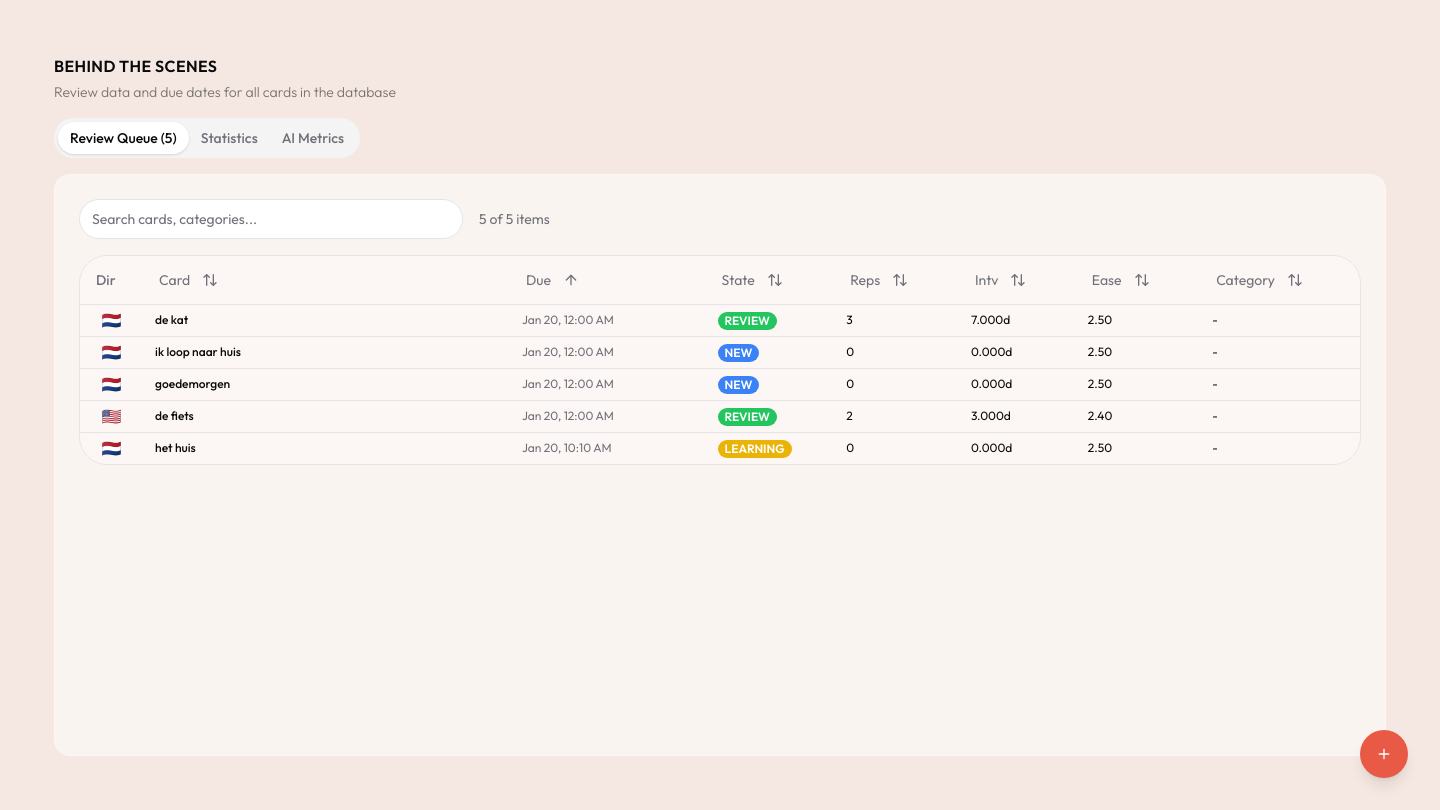
Test: Debug Page › shows search functionality in queue tab
This screenshot has width=1440, height=810.
Check: the text "5 of 5 items" is shown, box [479,209,550,229]
Type in search box
In the field with placeholder "Search cards, categories...": [271, 219] box [79,199,463,239], type "kat"
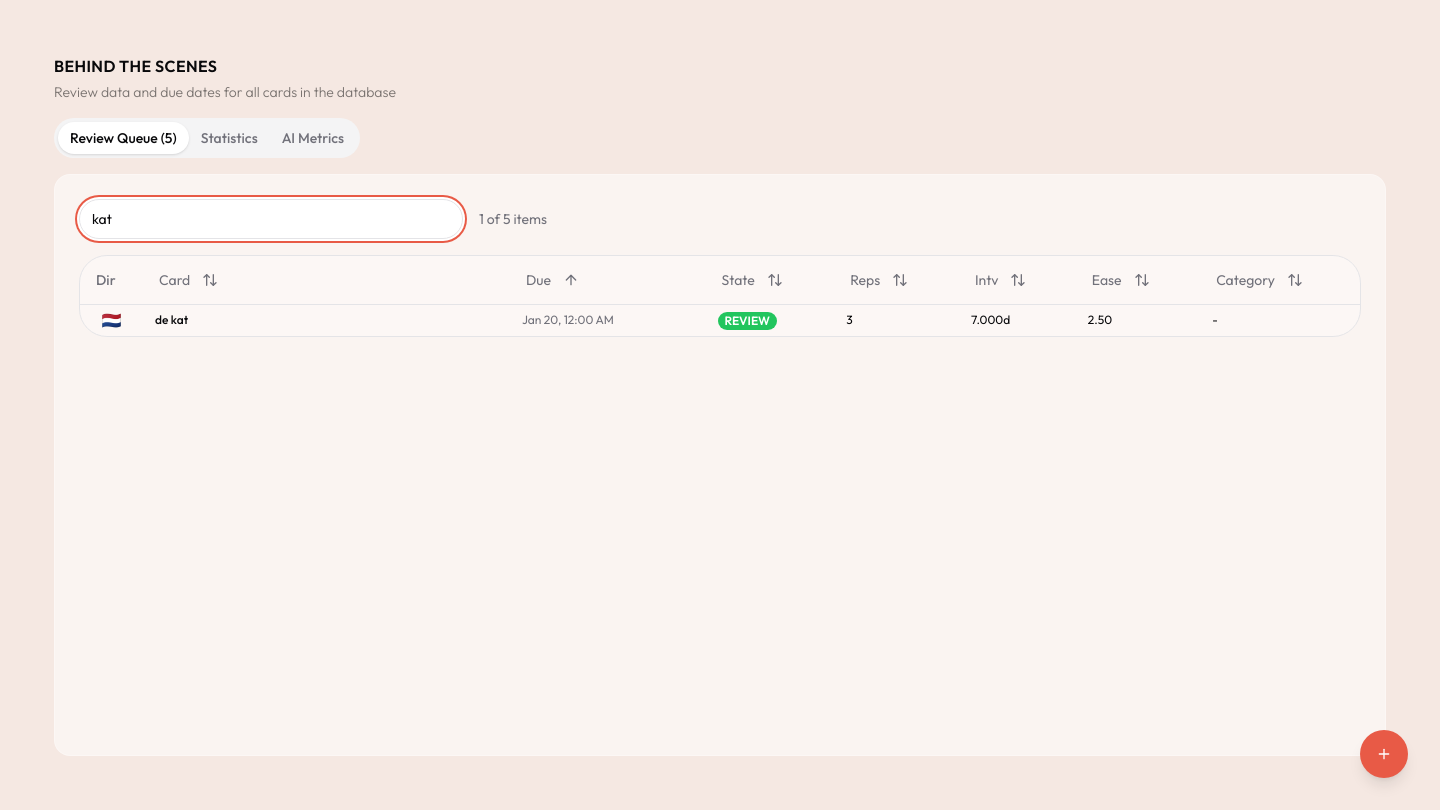
Check: the text "1 of 5 items" is shown, box [479,209,547,229]
